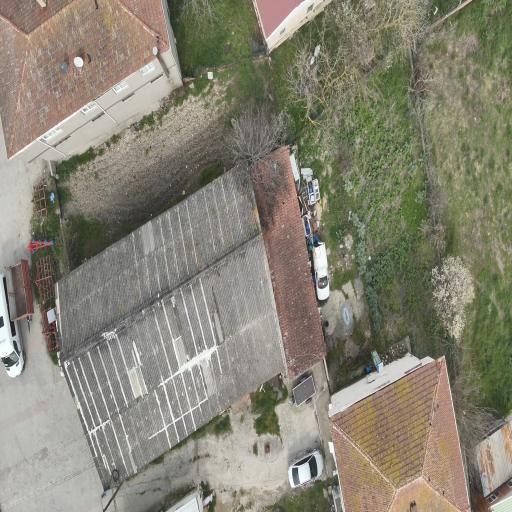car: (0, 274, 25, 377), (289, 450, 323, 488), (313, 242, 329, 300)
